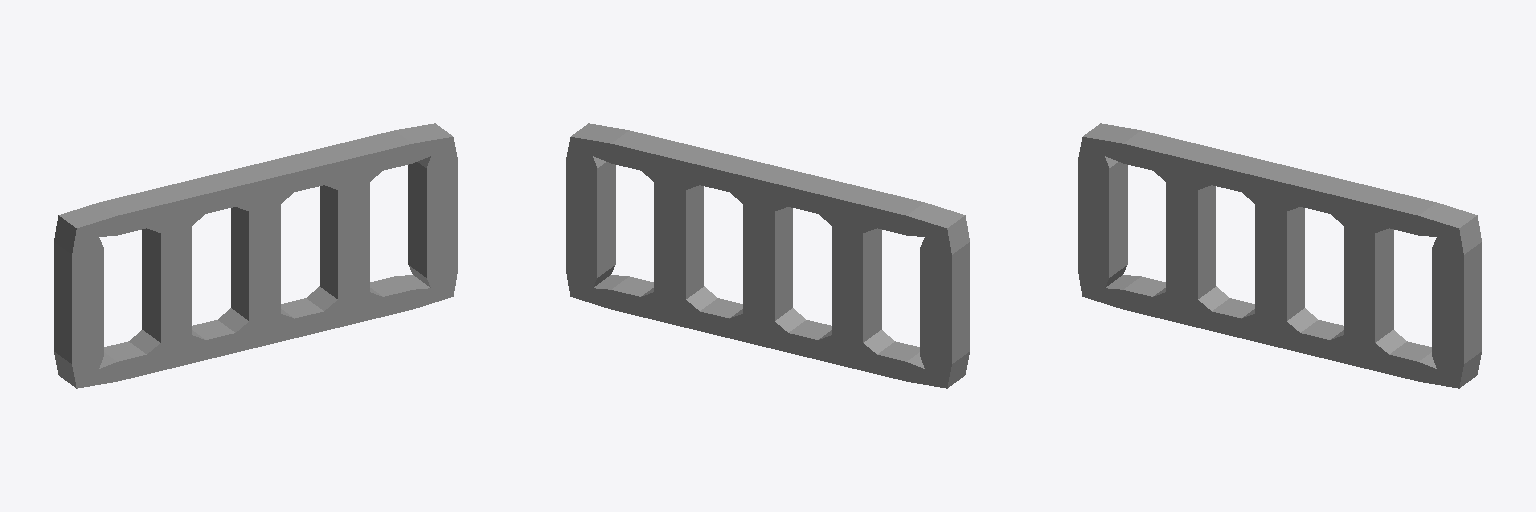
File: 5BarFence.obj
3 views of the same model, side by side, from view 1: azimuth 30°, elevation 25°; view 2: azimuth 150°, elevation 25°; view 3: azimuth 330°, elevation 25° (orthographic).
Visible parts, largest first — view 1: 5BarFence_Circle.006; view 2: 5BarFence_Circle.006; view 3: 5BarFence_Circle.006.
Boxes of the visible parts, <box> form: 5BarFence_Circle.006: <box>54,123,457,388</box>; 5BarFence_Circle.006: <box>566,123,969,388</box>; 5BarFence_Circle.006: <box>1078,123,1481,388</box>.
Bounding box in the file's own units: 15.93 × 6.54 × 1.3.